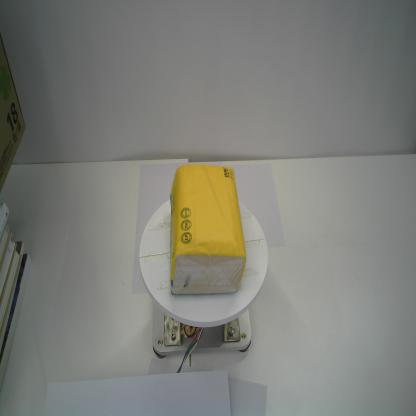Tissue: (168, 163, 247, 295)
